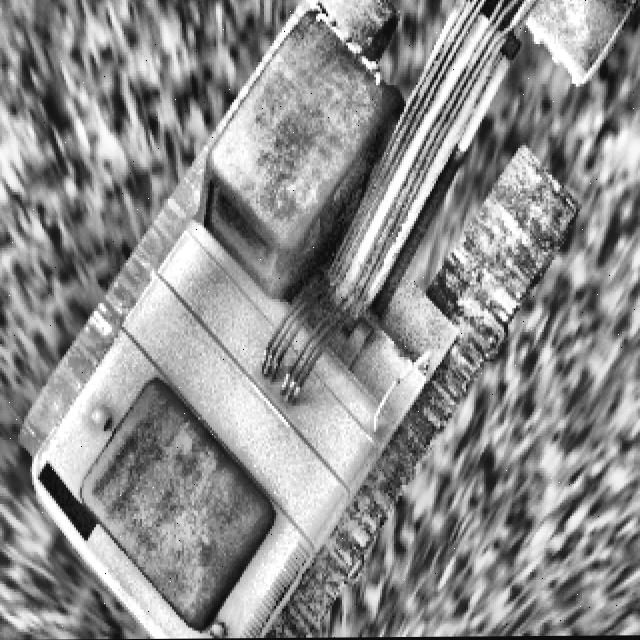excavator: (18, 0, 640, 640)
